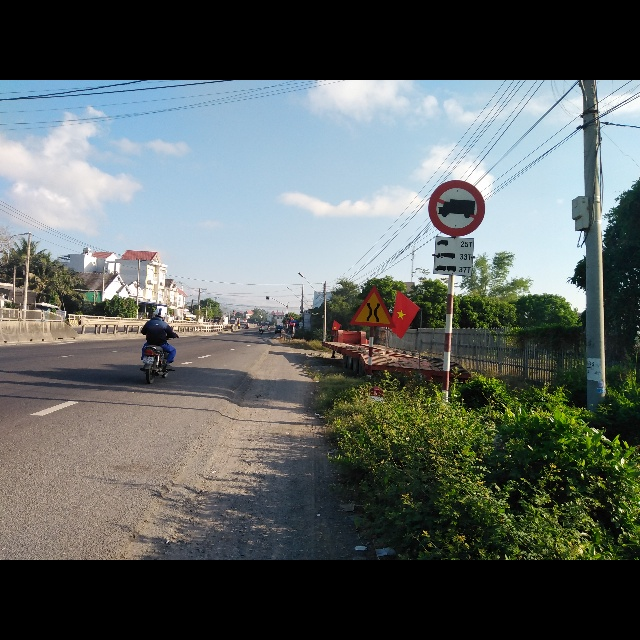Cấm xe tải: (426, 179, 487, 238)
Cầu hẹp: (350, 284, 397, 329)
